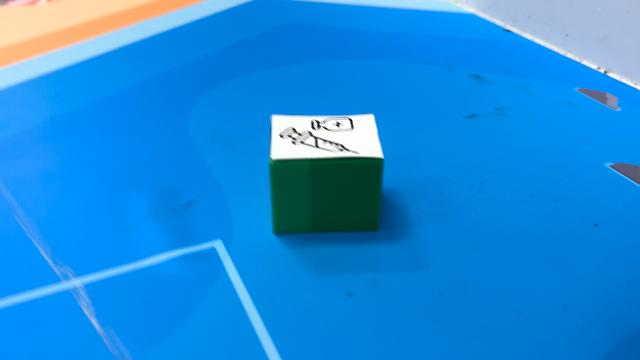syringe: (268, 114, 384, 234)
